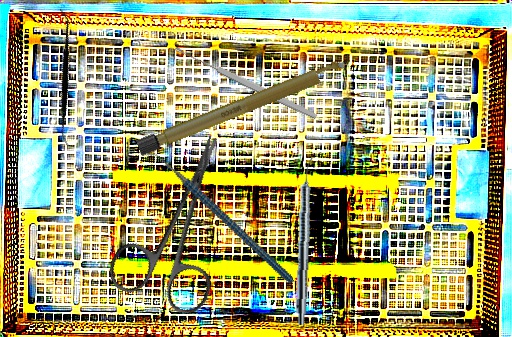Chopper: (139, 117, 295, 317)
Handpiece: (294, 157, 316, 326)
Iris Scissors: (102, 117, 266, 322)
Scalpel Handle: (135, 56, 350, 158)
Spatula Surgical: (3, 7, 125, 148)
Surgical Spoon: (173, 43, 319, 122)
